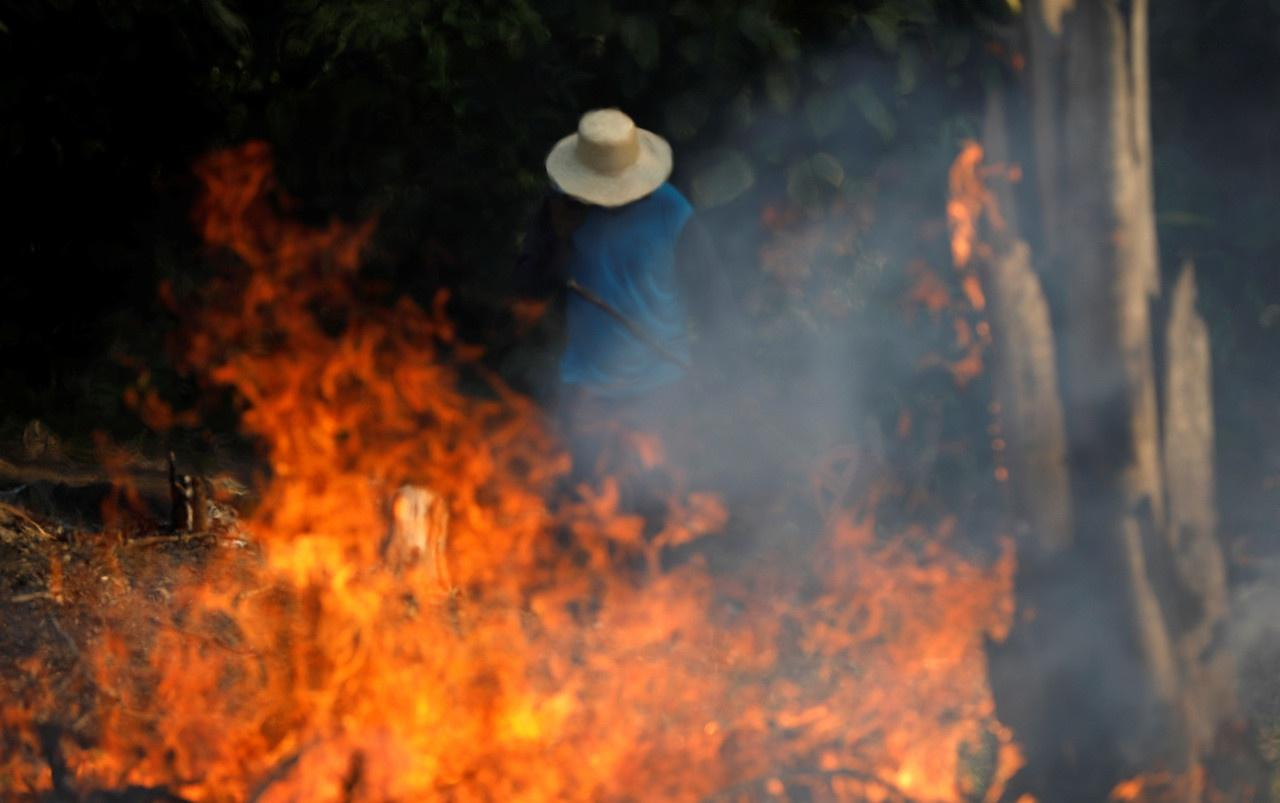victim: (531, 103, 734, 524)
